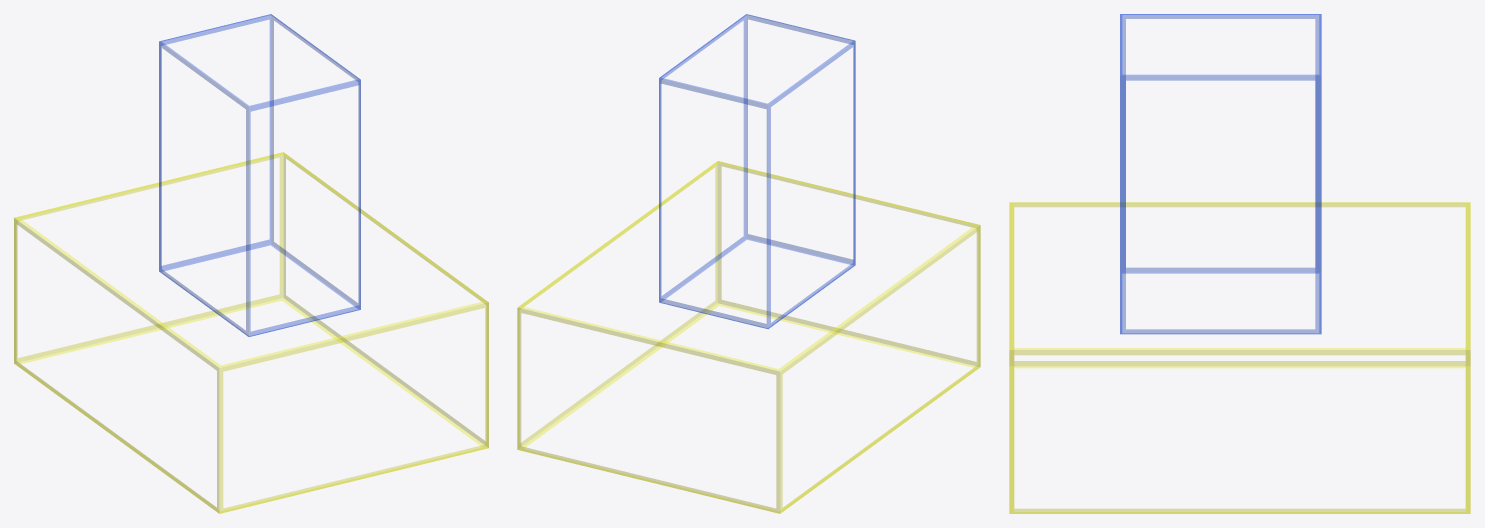
Rendered from plz work.fbx.
3 renders of one model, left to right at view 1: azimuth 30°, elevation 25°; view 2: azimuth 150°, elevation 25°; view 3: azimuth 270°, elevation 25°, orthographic. The views are drawn at different scales.
Visible parts, largest first — view 1: Cube, Cube.013; view 2: Cube, Cube.013; view 3: Cube, Cube.013.
Part boxes in pixels (box(x1,y1,x2,y2)): Cube: box(14, 152, 488, 513); Cube.013: box(159, 14, 360, 336); Cube: box(517, 161, 980, 513); Cube.013: box(659, 14, 855, 328); Cube: box(1009, 202, 1470, 513); Cube.013: box(1120, 14, 1321, 334).
Size of the model in its own units: 0.42 by 0.5241 by 0.5546.
